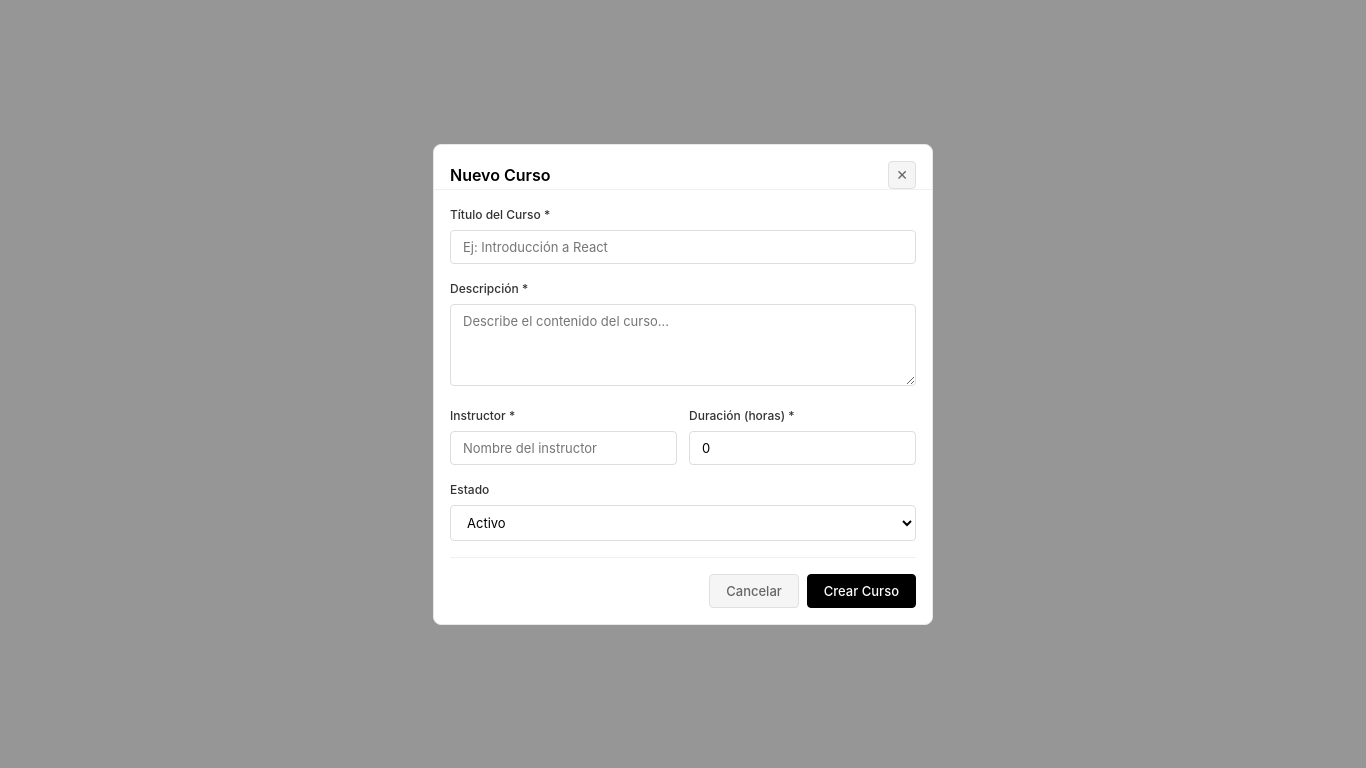
Test: CourseModal › validates required fields
Click the button "Crear Curso". click: (861, 590)
box: [807,574,916,608]
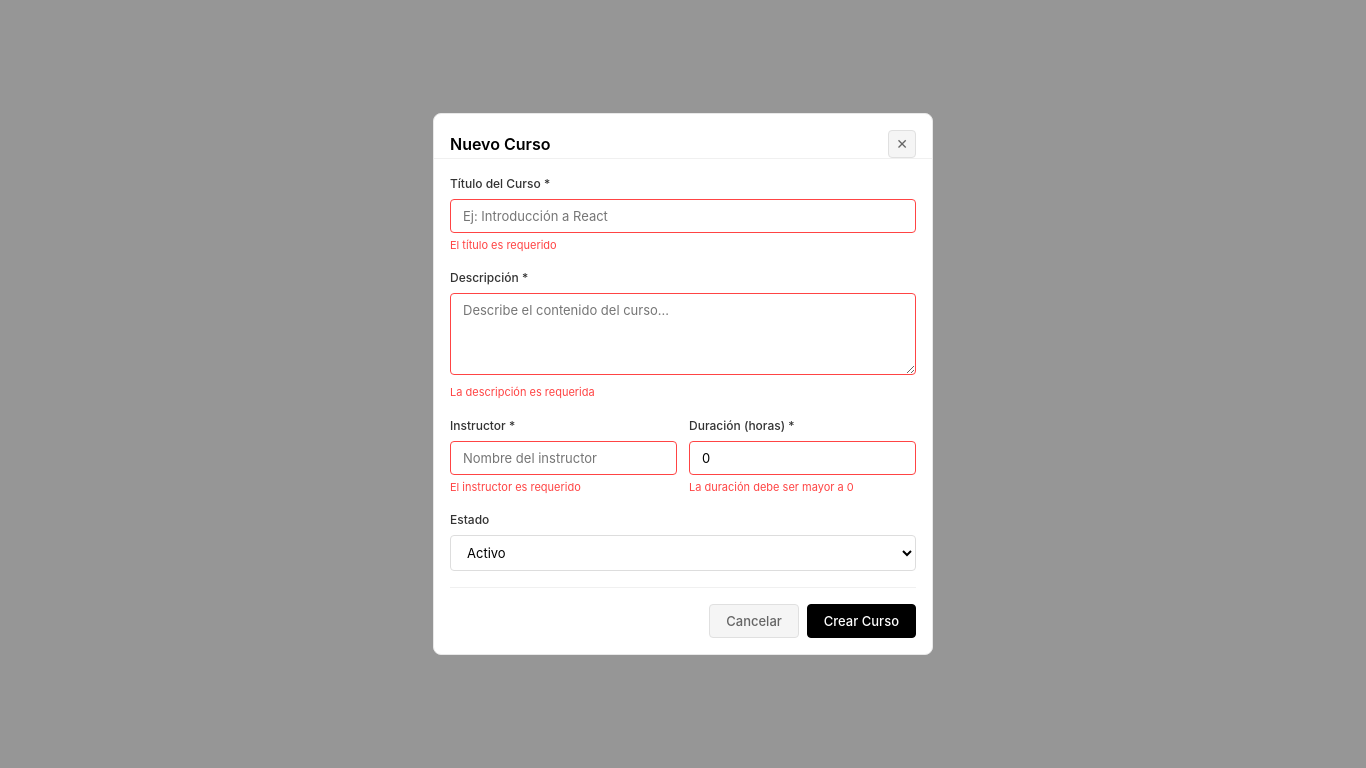
Now the text "El título es requerido" is shown, box [450,238,557,252]
Now the text "La descripción es requerida" is shown, box [450,385,595,399]
Now the text "El instructor es requerido" is shown, box [450,480,581,494]
